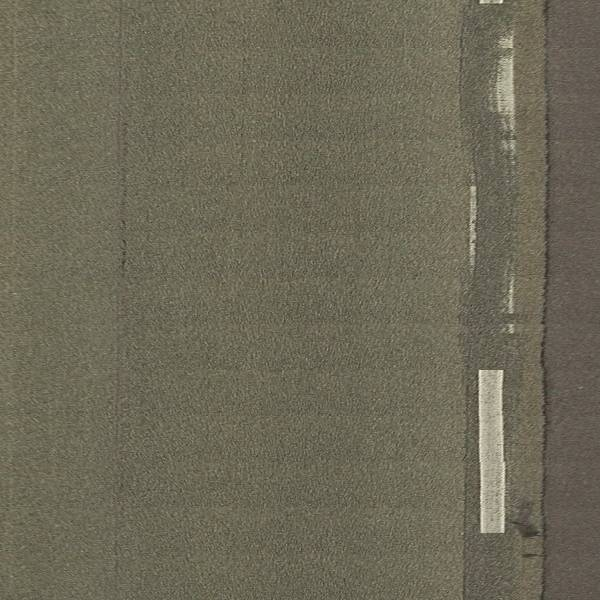road_damage: (528, 1, 564, 599)
